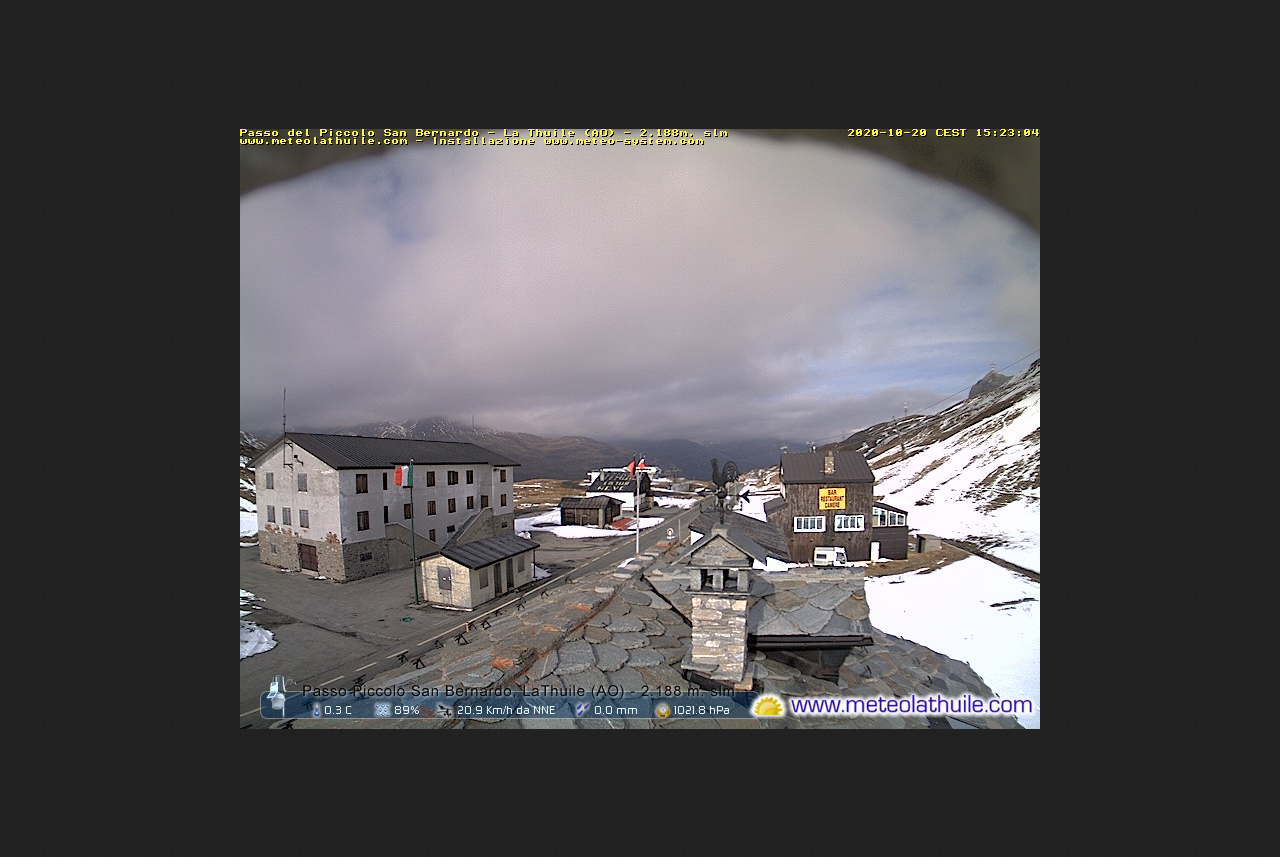yes: (389, 460, 419, 490)
